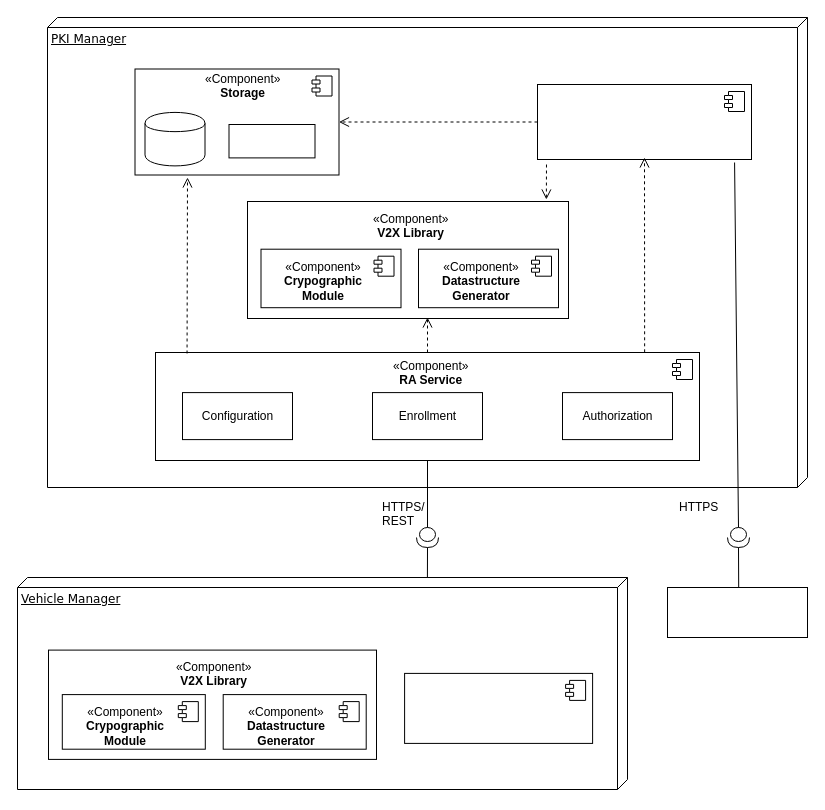
Image size: 825x810. Some labels were removed from this diagram. The centre of each missing label's shape, as x and y in pixels:
"Admin Client Web Browser" belongs at (737,612).
"Internal Storage" belongs at (174,138).
"Key Store" belongs at (271,141).
"«Component» Back Office" belongs at (644,122).
"«Component» Vehicle Generator" belongs at (498,707).
